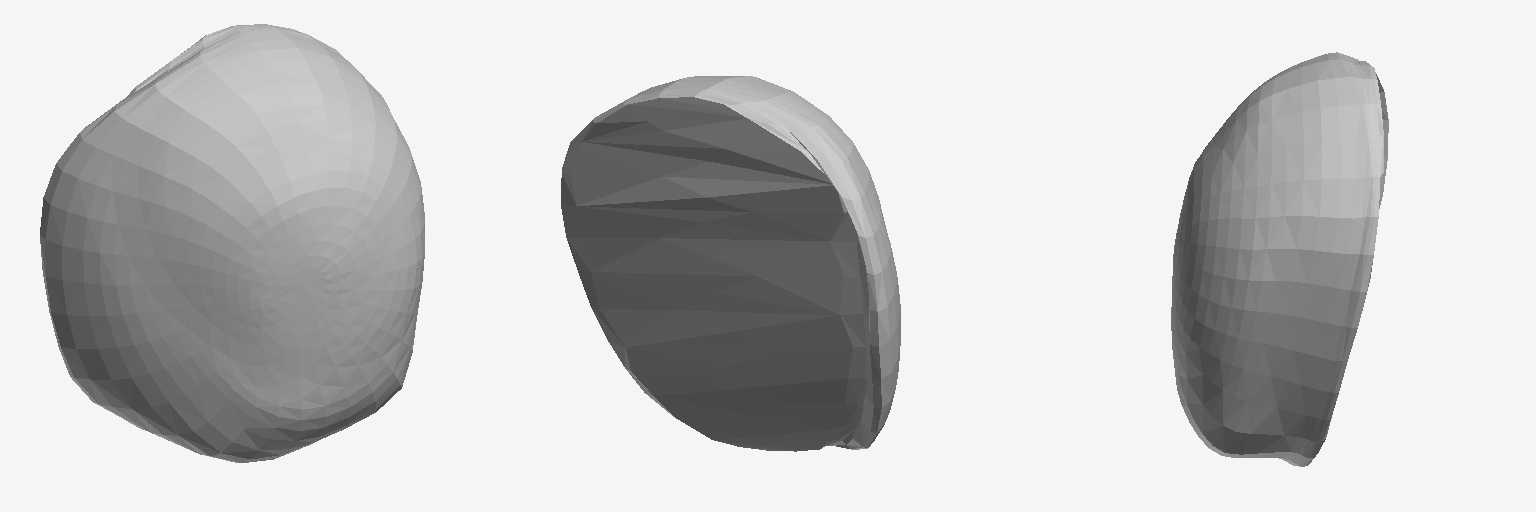
The model's file is beret.obj.
3 renders of one model, left to right at view 1: azimuth 30°, elevation 25°; view 2: azimuth 150°, elevation 25°; view 3: azimuth 270°, elevation 25°, orthographic.
Visible parts, largest first — view 1: studio.beret.smd.mesh_0; view 2: studio.beret.smd.mesh_0; view 3: studio.beret.smd.mesh_0.
Part boxes in pixels (x1,y1,x2,y2): studio.beret.smd.mesh_0: (40, 24, 424, 462); studio.beret.smd.mesh_0: (561, 76, 900, 451); studio.beret.smd.mesh_0: (1171, 52, 1388, 466).
Size of the model in its own units: 8.75 by 9.52 by 4.95.